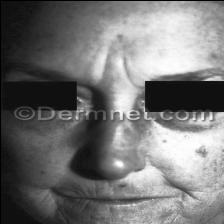Unclassified: (157, 138, 224, 172), (30, 136, 77, 168), (188, 24, 224, 60)
